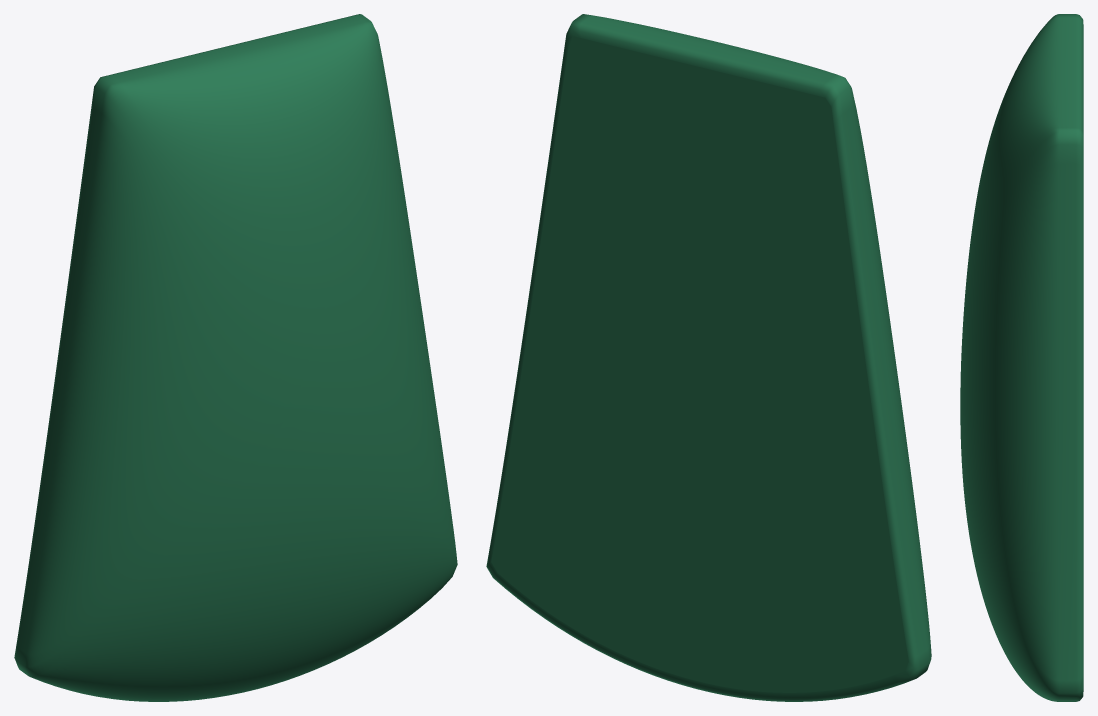
The model's file is keystone.glb.
The picture shows the model from 3 angles, left to right: view 1: azimuth 30°, elevation 25°; view 2: azimuth 150°, elevation 25°; view 3: azimuth 270°, elevation 25°; orthographic projection. The views are drawn at different scales.
Visible parts, largest first — view 1: Keystone Cabochon 21x15x4mm; view 2: Keystone Cabochon 21x15x4mm; view 3: Keystone Cabochon 21x15x4mm.
Boxes of the visible parts, <box> form: Keystone Cabochon 21x15x4mm: <box>14,14,457,701</box>; Keystone Cabochon 21x15x4mm: <box>486,14,931,701</box>; Keystone Cabochon 21x15x4mm: <box>960,14,1083,701</box>.
Size of the model in its own units: 0.0149 by 0.021 by 0.00398.
